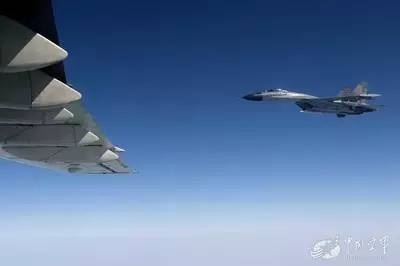airplane: (241, 78, 386, 116)
